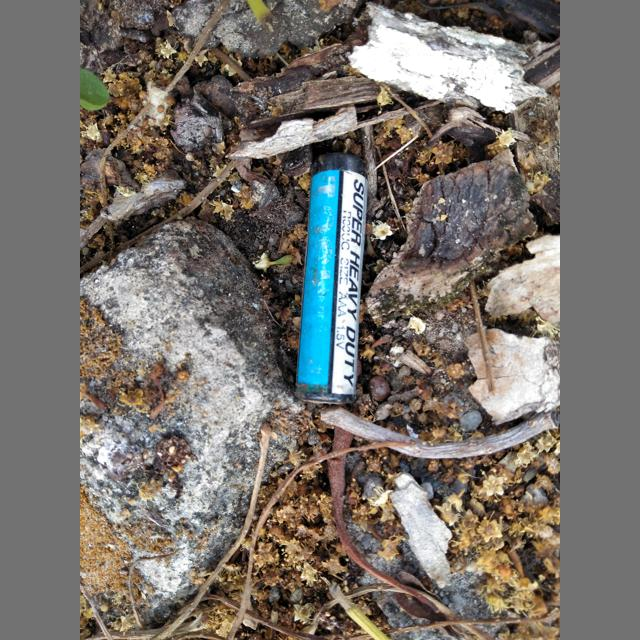litter: (296, 152, 368, 404)
